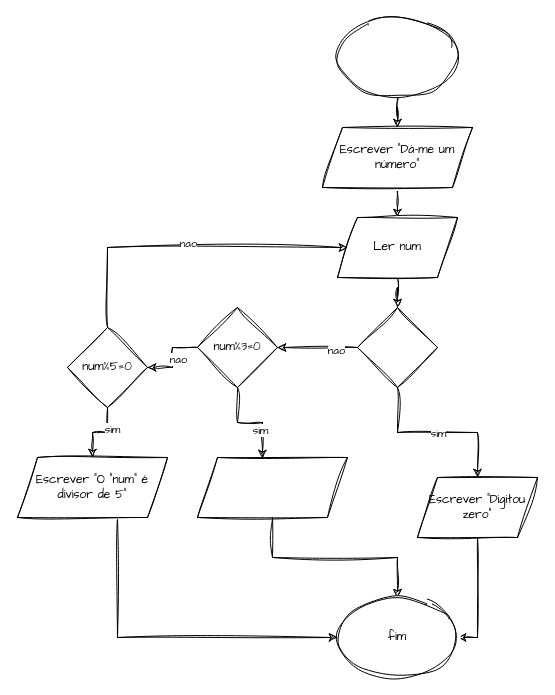
Image size: 555x695. Some labels were removed from this diagram. The centre of each missing label's shape, as x and y in pixels:
Escrever "O "num" é divisor de 3": [272,487]
Inicio: [397,57]
num=0: [397,347]
